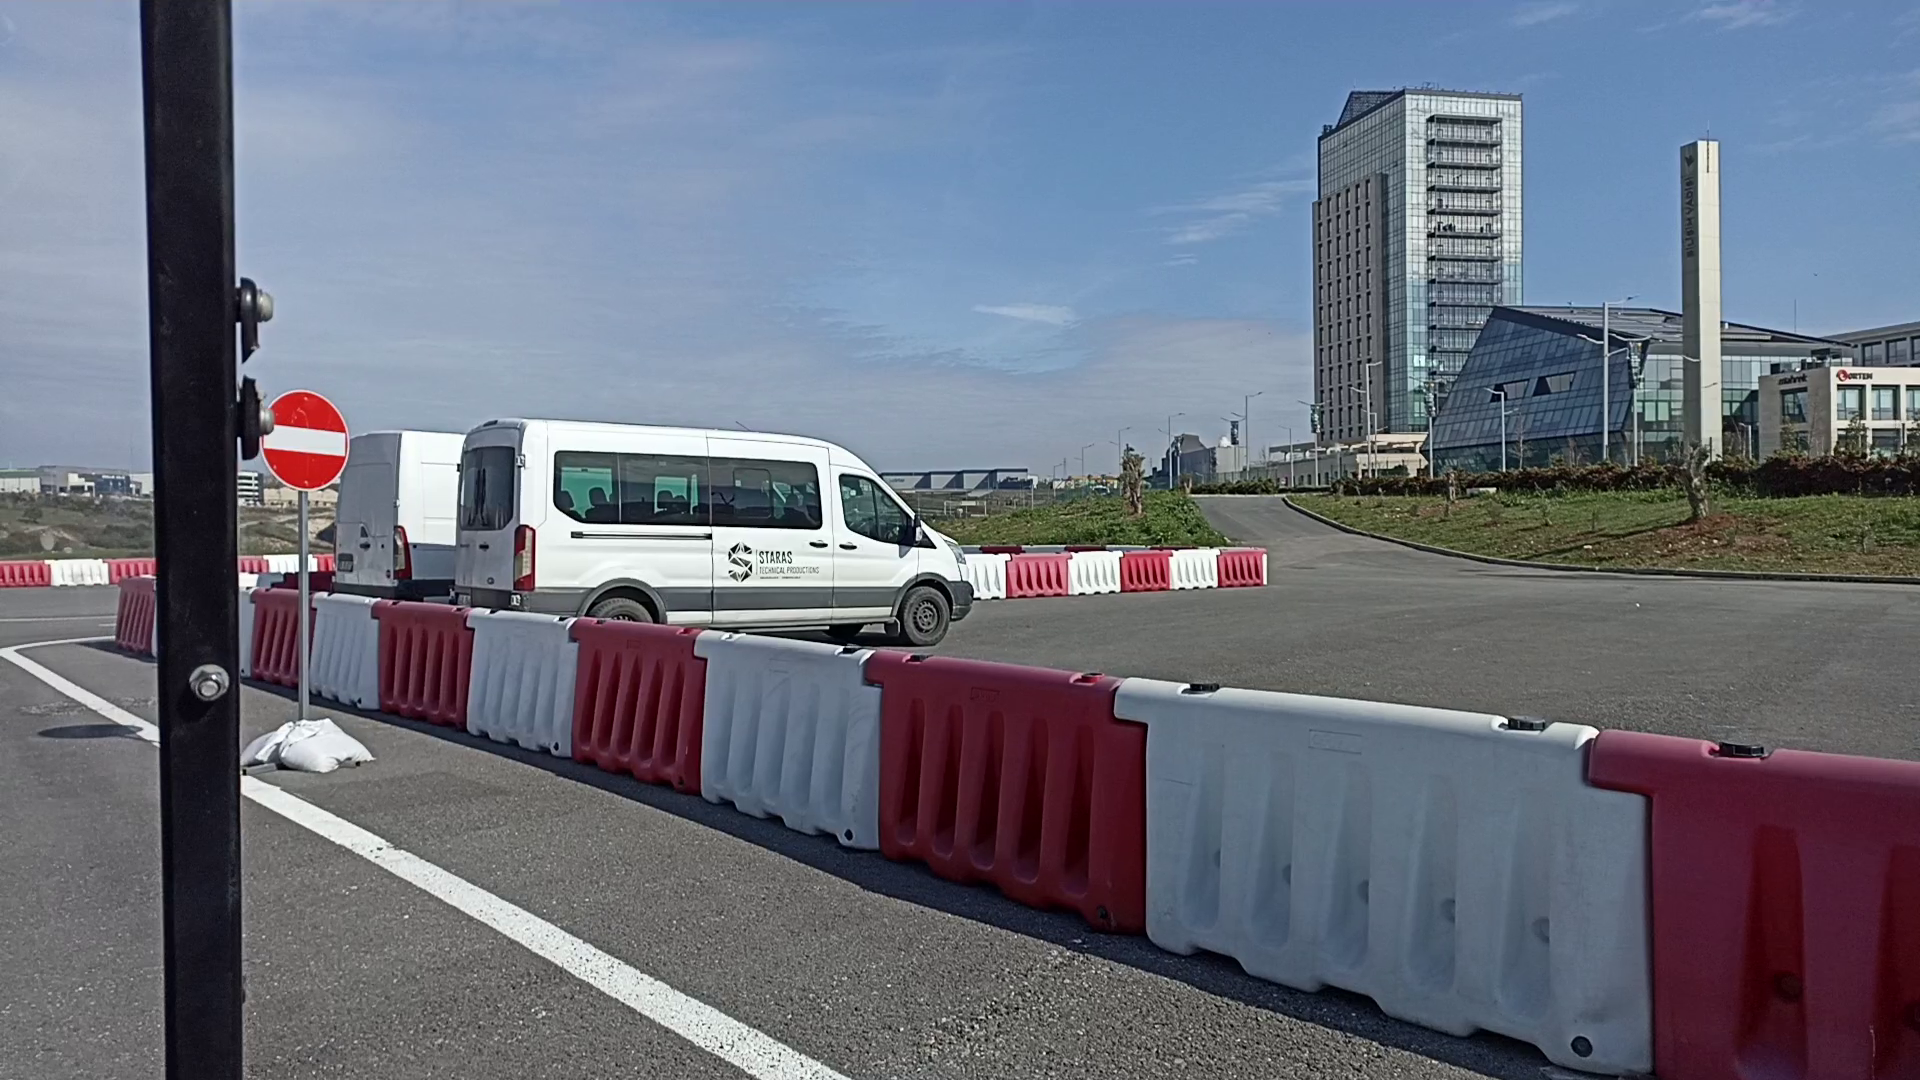noentryway: (255, 386, 353, 493)
